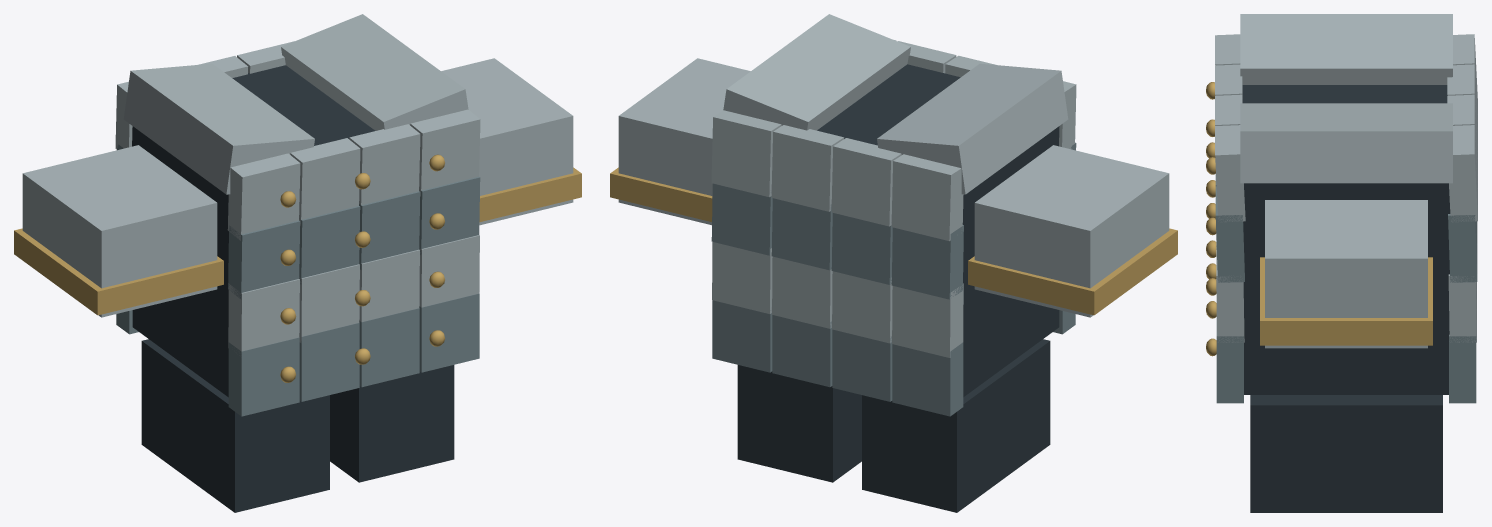
Rendered from fixed-brigandine.glb.
3 renders of one model, left to right at view 1: azimuth 30°, elevation 25°; view 2: azimuth 150°, elevation 25°; view 3: azimuth 270°, elevation 25°, orthographic. The views are drawn at different scales.
Visible parts, largest first — view 1: piece_torso, piece_waist, piece_armR, piece_armL; view 2: piece_torso, piece_waist, piece_armR, piece_armL; view 3: piece_torso, piece_armL, piece_waist.
Part boxes in pixels (left/top/right/bottom): piece_torso: left=115, top=14, right=480, bottom=416; piece_waist: left=141, top=339, right=454, bottom=512; piece_armR: left=14, top=145, right=223, bottom=317; piece_armL: left=441, top=58, right=581, bottom=225; piece_torso: left=711, top=14, right=1076, bottom=416; piece_waist: left=737, top=339, right=1050, bottom=512; piece_armR: left=968, top=145, right=1177, bottom=317; piece_armL: left=610, top=58, right=750, bottom=225; piece_torso: left=1206, top=14, right=1477, bottom=403; piece_armL: left=1260, top=200, right=1432, bottom=348; piece_waist: left=1250, top=395, right=1442, bottom=512.
Bounding box in the file's own units: 1.17 × 0.8593 × 0.5502.
